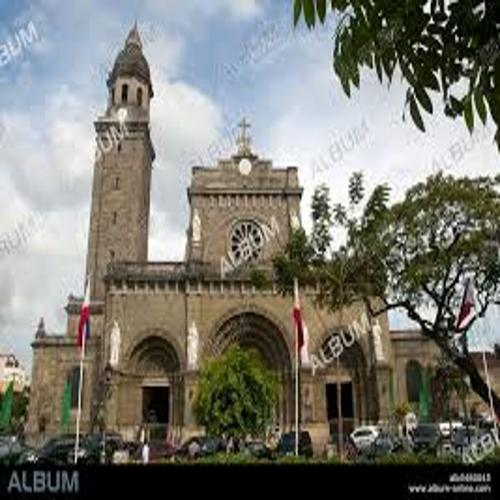Manila Cathedral Church: (24, 17, 486, 446)
